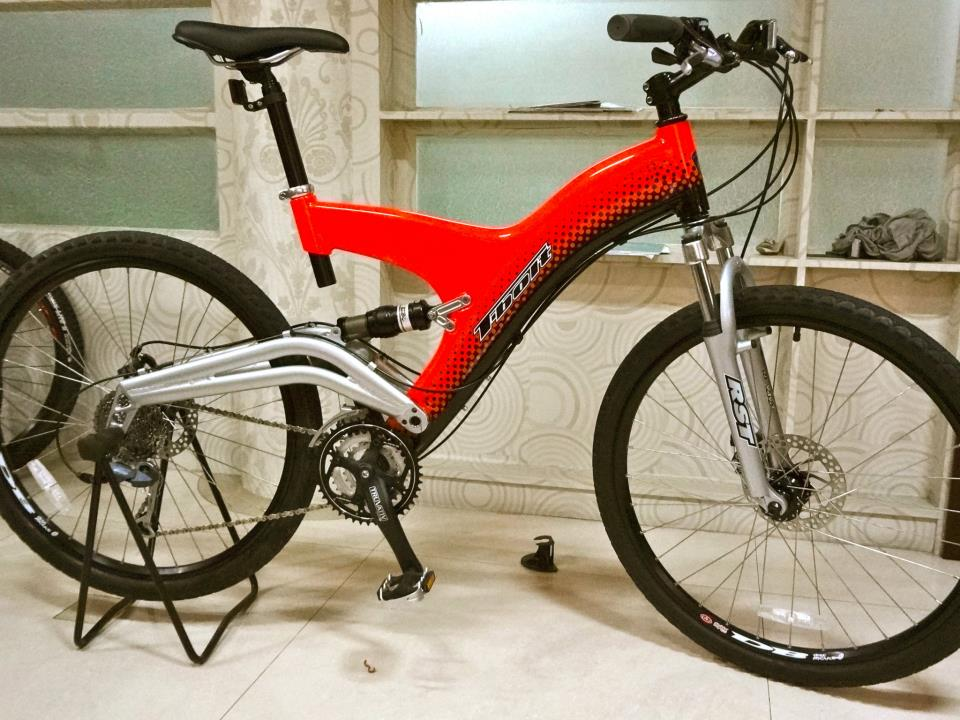bicycle: (4, 6, 951, 703)
